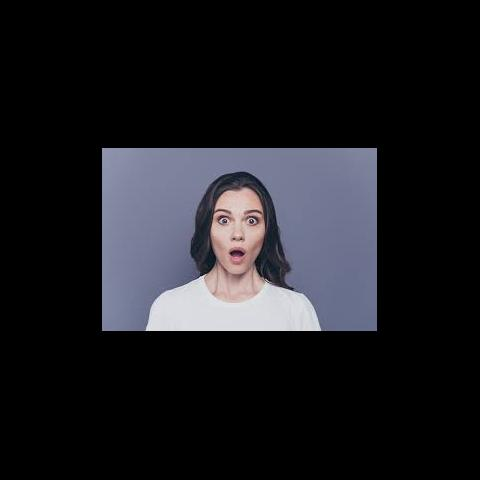opened: (212, 207, 264, 232)
